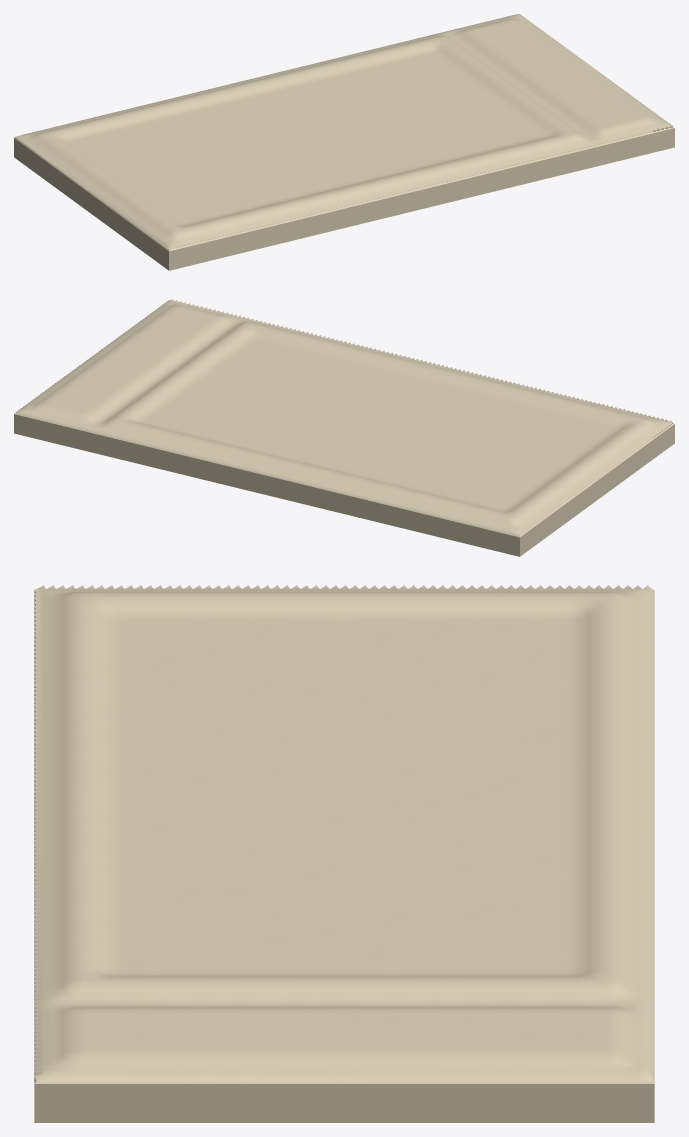
The model's file is mahsulot.glb.
3 renders of one model, top to bottom at view 1: azimuth 30°, elevation 25°; view 2: azimuth 150°, elevation 25°; view 3: azimuth 270°, elevation 25°, orthographic. The views are drawn at different scales.
Parts seen in each view (by area): view 1: mahsulot; view 2: mahsulot; view 3: mahsulot.
Part boxes in pixels (box(x1,y1,x2,y2)): mahsulot: box(14, 14, 674, 270); mahsulot: box(14, 299, 674, 556); mahsulot: box(34, 585, 654, 1122).
Size of the model in its own units: 0.8 by 0.0399 by 0.425.
